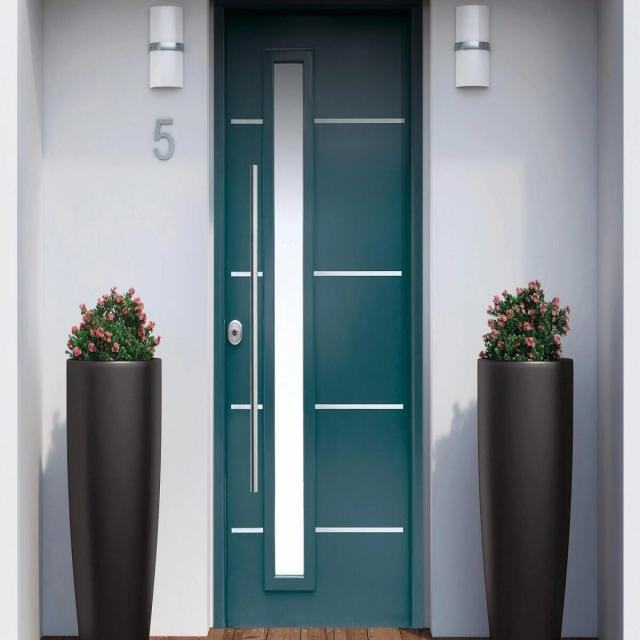door: (216, 2, 424, 629)
